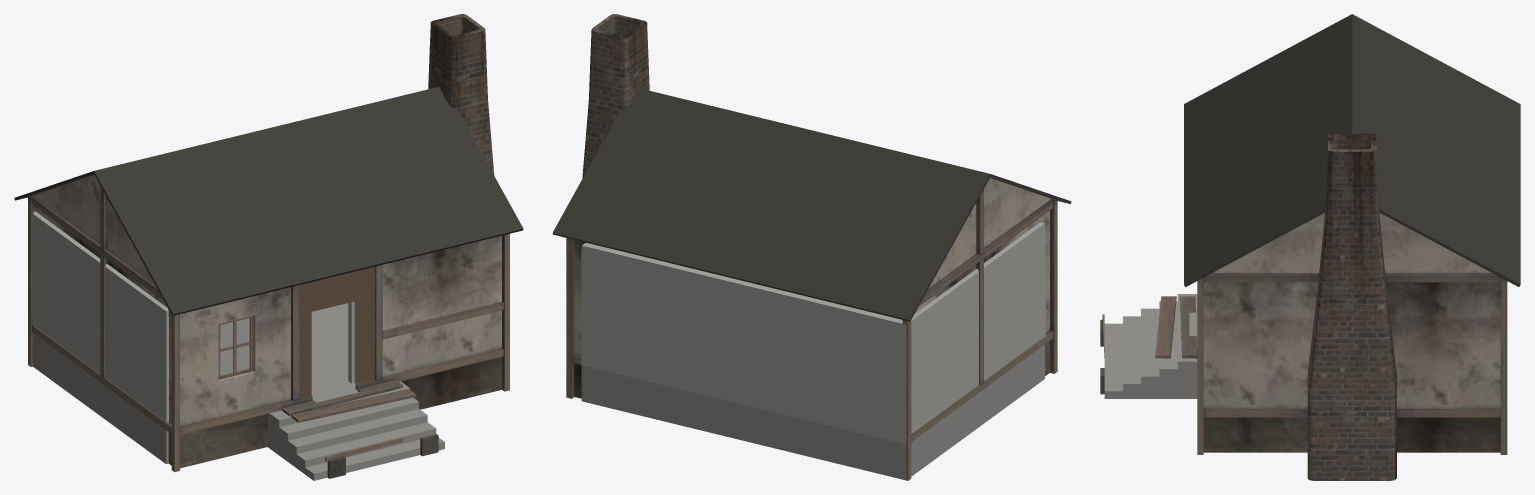
Rendered from camp-cabin.zfix-v3.lod0.glb.
3 renders of one model, left to right at view 1: azimuth 30°, elevation 25°; view 2: azimuth 150°, elevation 25°; view 3: azimuth 270°, elevation 25°, orthographic. The views are drawn at different scales.
Parts seen in each view (by area): view 1: Object_3, Object_6, Object_7, Object_4, Object_2; view 2: Object_3, Object_7, Object_6, Object_4; view 3: Object_3, Object_6, Object_4, Object_7.
Boxes of the visible parts, x1=… form: Object_3: x1=14, y1=87, x2=523, y2=480; Object_6: x1=35, y1=175, x2=501, y2=468; Object_7: x1=28, y1=186, x2=509, y2=472; Object_4: x1=428, y1=14, x2=494, y2=175; Object_2: x1=327, y1=434, x2=438, y2=478; Object_3: x1=552, y1=88, x2=1071, y2=480; Object_7: x1=566, y1=189, x2=1057, y2=480; Object_6: x1=574, y1=178, x2=1050, y2=398; Object_4: x1=582, y1=14, x2=649, y2=178; Object_3: x1=1104, y1=14, x2=1520, y2=398; Object_6: x1=1203, y1=212, x2=1500, y2=452; Object_4: x1=1307, y1=133, x2=1396, y2=480; Object_7: x1=1102, y1=273, x2=1507, y2=454.
Size of the model in its own units: 10.5 by 7.8 by 9.18.
5 materials, 4 textured.
